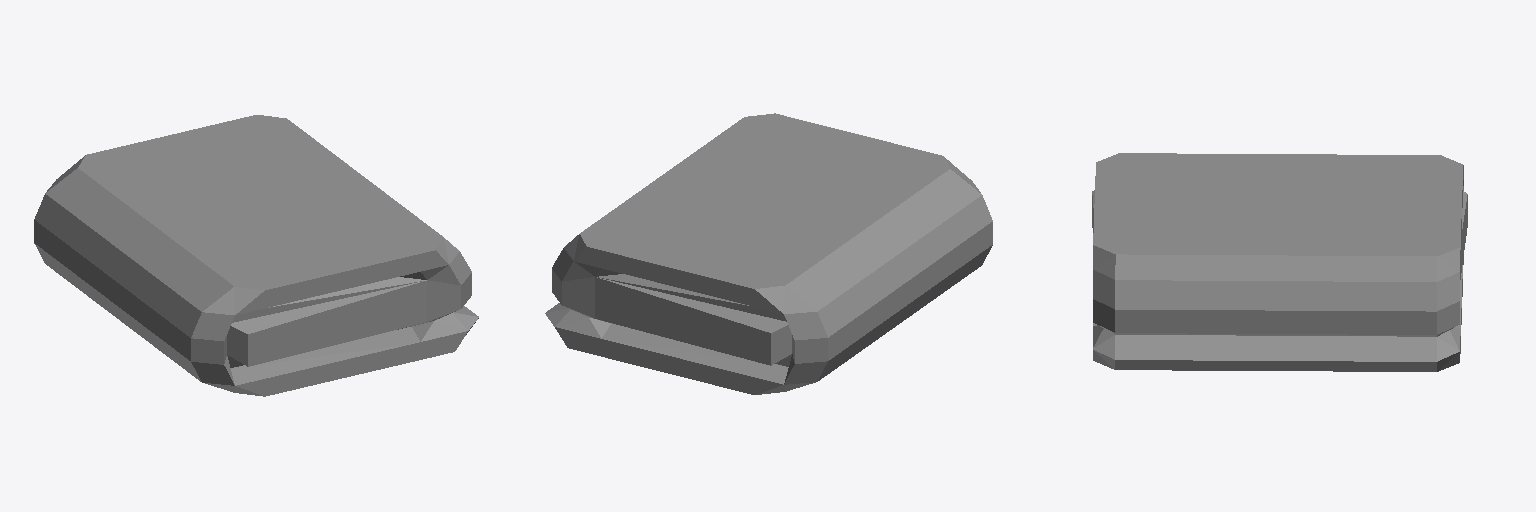
Rendered from Room_301_0_11.obj.
3 views of the same model, side by side, from view 1: azimuth 30°, elevation 25°; view 2: azimuth 150°, elevation 25°; view 3: azimuth 270°, elevation 25° (orthographic).
Visible parts, largest first — view 1: Towel; view 2: Towel; view 3: Towel.
Part boxes in pixels (bbox=[...]): Towel: bbox=[34, 115, 478, 396]; Towel: bbox=[545, 113, 992, 394]; Towel: bbox=[1092, 153, 1467, 371].
Bounding box in the file's own units: 0.4598 × 0.1609 × 0.5154.